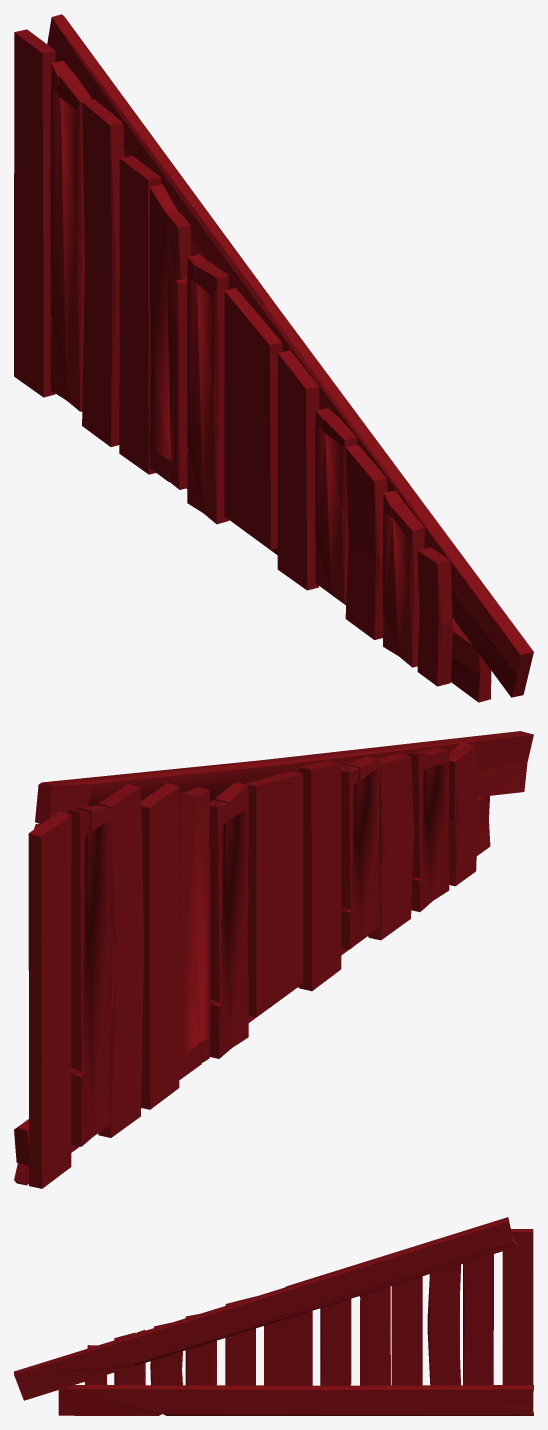
Rendered from SM_MH_01_Slate_Porch_Roof_Side_R_01.fbx.
3 views of the same model, one above another, from view 1: azimuth 30°, elevation 25°; view 2: azimuth 150°, elevation 25°; view 3: azimuth 270°, elevation 25° (orthographic). The views are drawn at different scales.
Parts seen in each view (by area): view 1: SM_MH_01_Slate_Porch_Roof_Side_R_01_LOD0; view 2: SM_MH_01_Slate_Porch_Roof_Side_R_01_LOD0; view 3: SM_MH_01_Slate_Porch_Roof_Side_R_01_LOD0.
Part boxes in pixels (box(x1,y1,x2,y2)): SM_MH_01_Slate_Porch_Roof_Side_R_01_LOD0: box(14, 14, 533, 702); SM_MH_01_Slate_Porch_Roof_Side_R_01_LOD0: box(14, 731, 533, 1188); SM_MH_01_Slate_Porch_Roof_Side_R_01_LOD0: box(14, 1217, 533, 1415).
Size of what is drawn, in the model's own units: 10.88 by 137 by 328.
